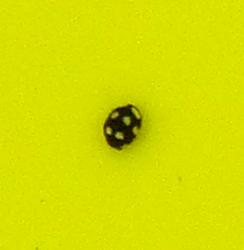Coleoptera: (100, 100, 144, 150)
